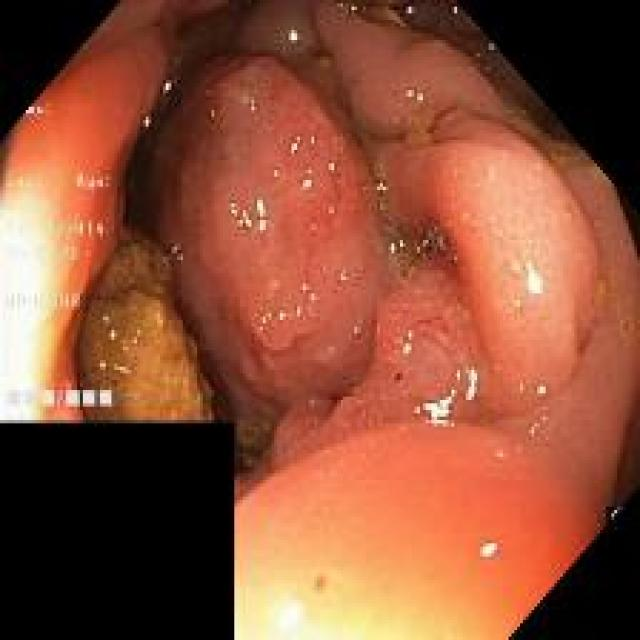Polyps: (148, 55, 399, 464), (379, 114, 598, 417)
